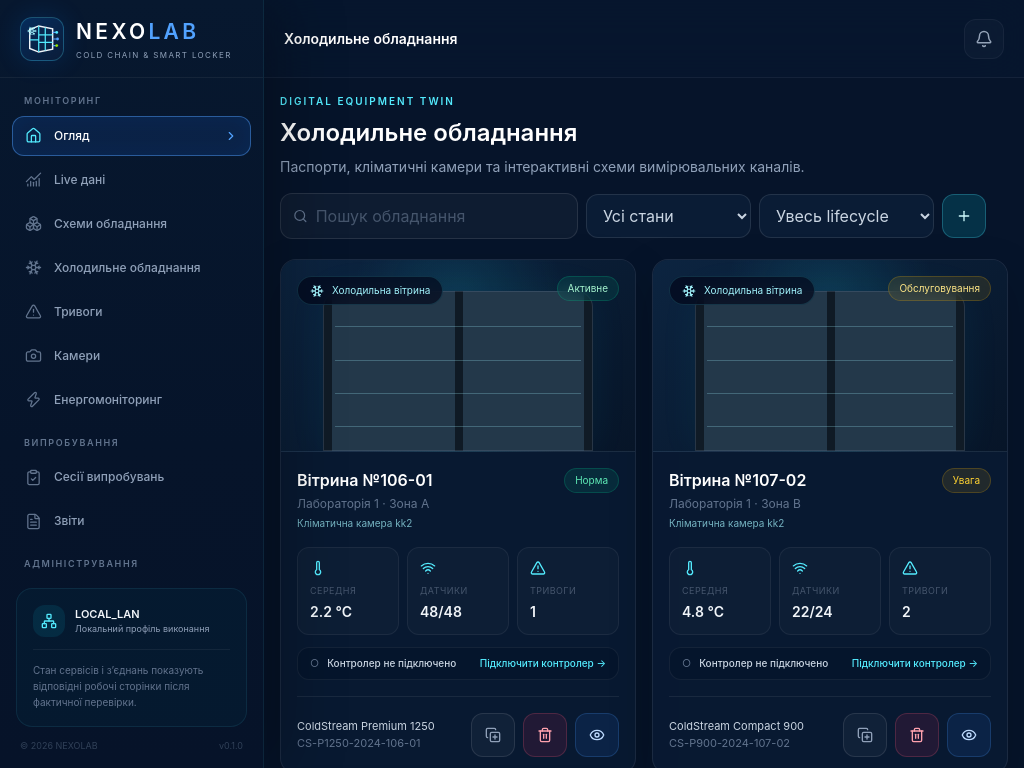
Test case: RefrigerationCatalogScreen › renders an explicit empty state when no equipment matches
This screenshot has width=1024, height=768.
Check: the heading "Вітрина №106-01" is shown, box [297,468,432,492]
Type "does-not-exist" into the field with placeholder "Пошук обладнання" at point(440, 216), box [316,204,565,228]
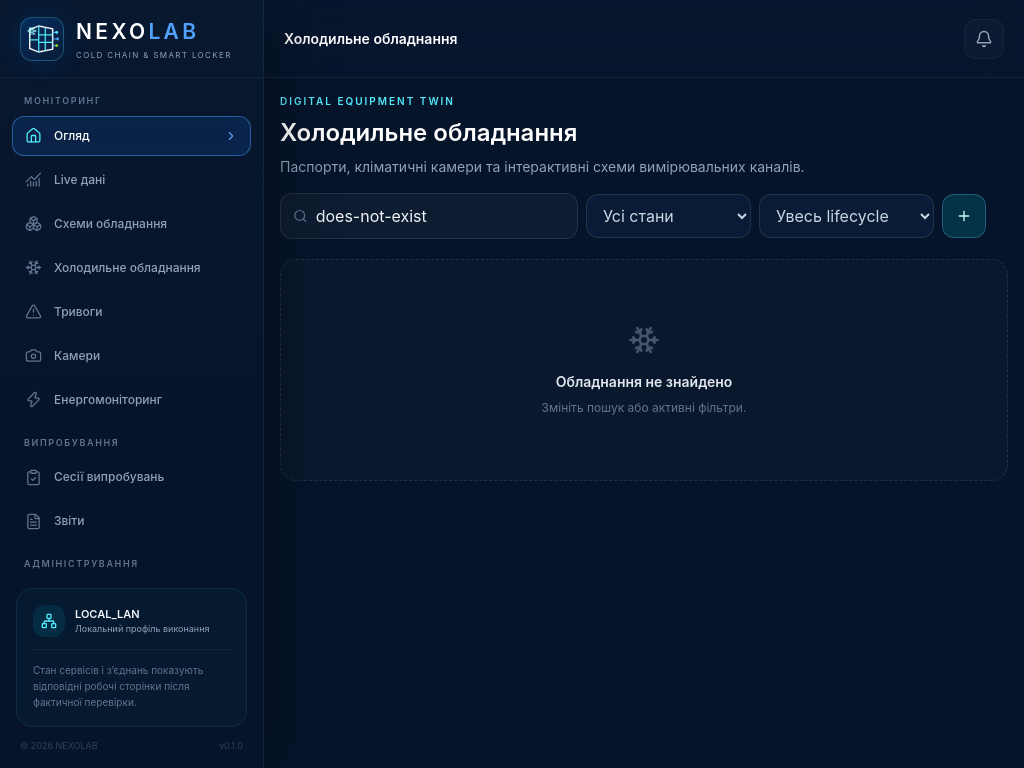
Check: the heading "Обладнання не знайдено" is shown, box [556,373,732,390]
